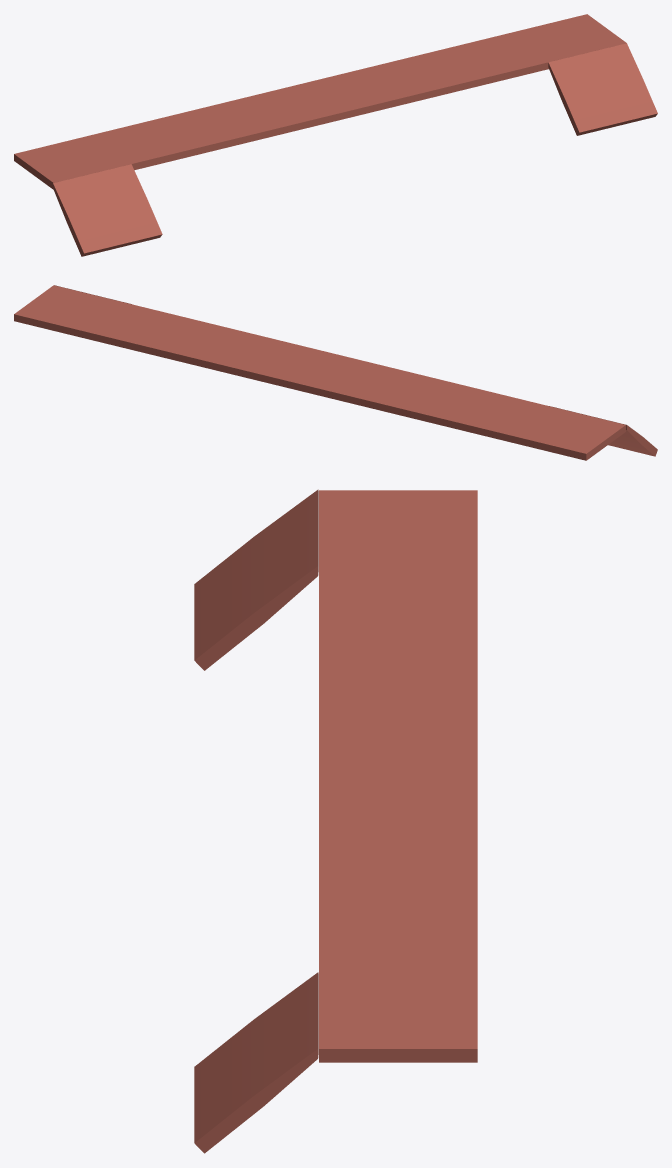
Rendered from CatwalkStairs.fbx.
The picture shows the model from 3 angles, top to bottom: view 1: azimuth 30°, elevation 25°; view 2: azimuth 150°, elevation 25°; view 3: azimuth 270°, elevation 25°; orthographic projection. The views are drawn at different scales.
Visible parts, largest first — view 1: ConveyorCatwalk; view 2: ConveyorCatwalk; view 3: ConveyorCatwalk.
Part boxes in pixels (x1=…): ConveyorCatwalk: x1=14, y1=14, x2=657, y2=256; ConveyorCatwalk: x1=14, y1=285, x2=657, y2=460; ConveyorCatwalk: x1=194, y1=489, x2=477, y2=1153.
Bounding box in the file's own units: 16.24 × 1.43 × 3.48.
